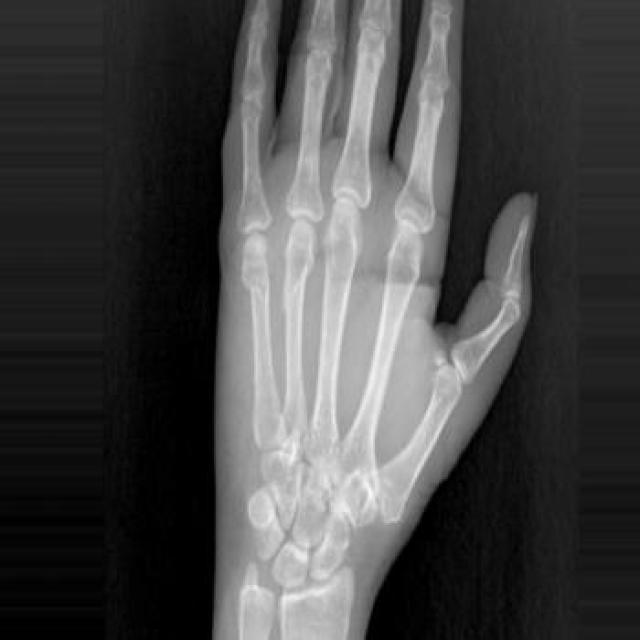Fracture: (284, 262, 318, 294), (235, 279, 268, 293)
